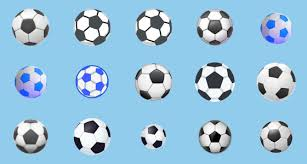football ball: (191, 60, 238, 106), (255, 61, 298, 103), (72, 115, 111, 160), (11, 8, 53, 48), (134, 8, 175, 48), (134, 63, 175, 102), (196, 8, 235, 47), (196, 118, 235, 156), (11, 63, 50, 100), (13, 117, 51, 153), (256, 118, 294, 154), (75, 64, 111, 101), (74, 10, 112, 45), (260, 11, 293, 47), (141, 122, 166, 149)
